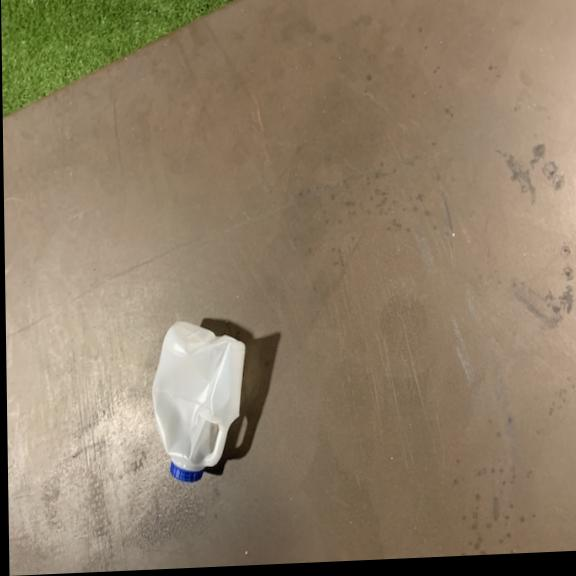Plastik: (148, 315, 248, 489)
